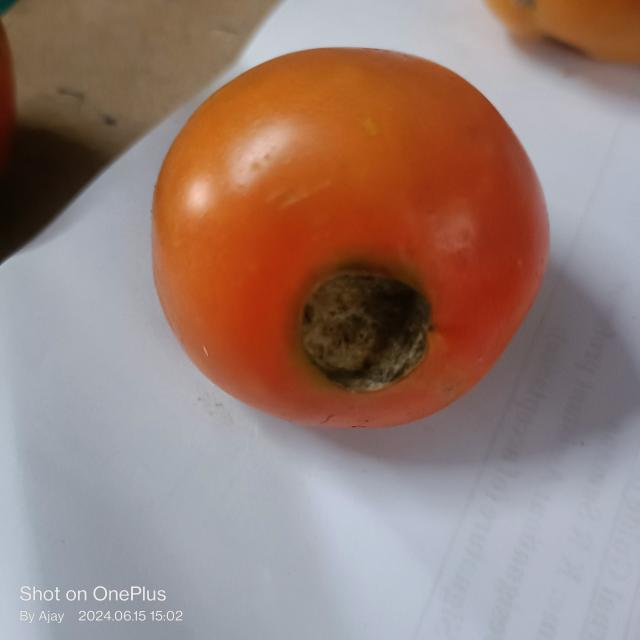fruitworm_bore: (290, 260, 428, 384)
